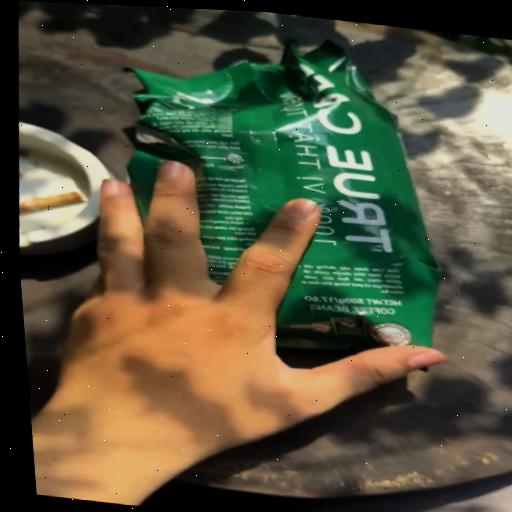cafe_xay: (128, 41, 438, 350)
